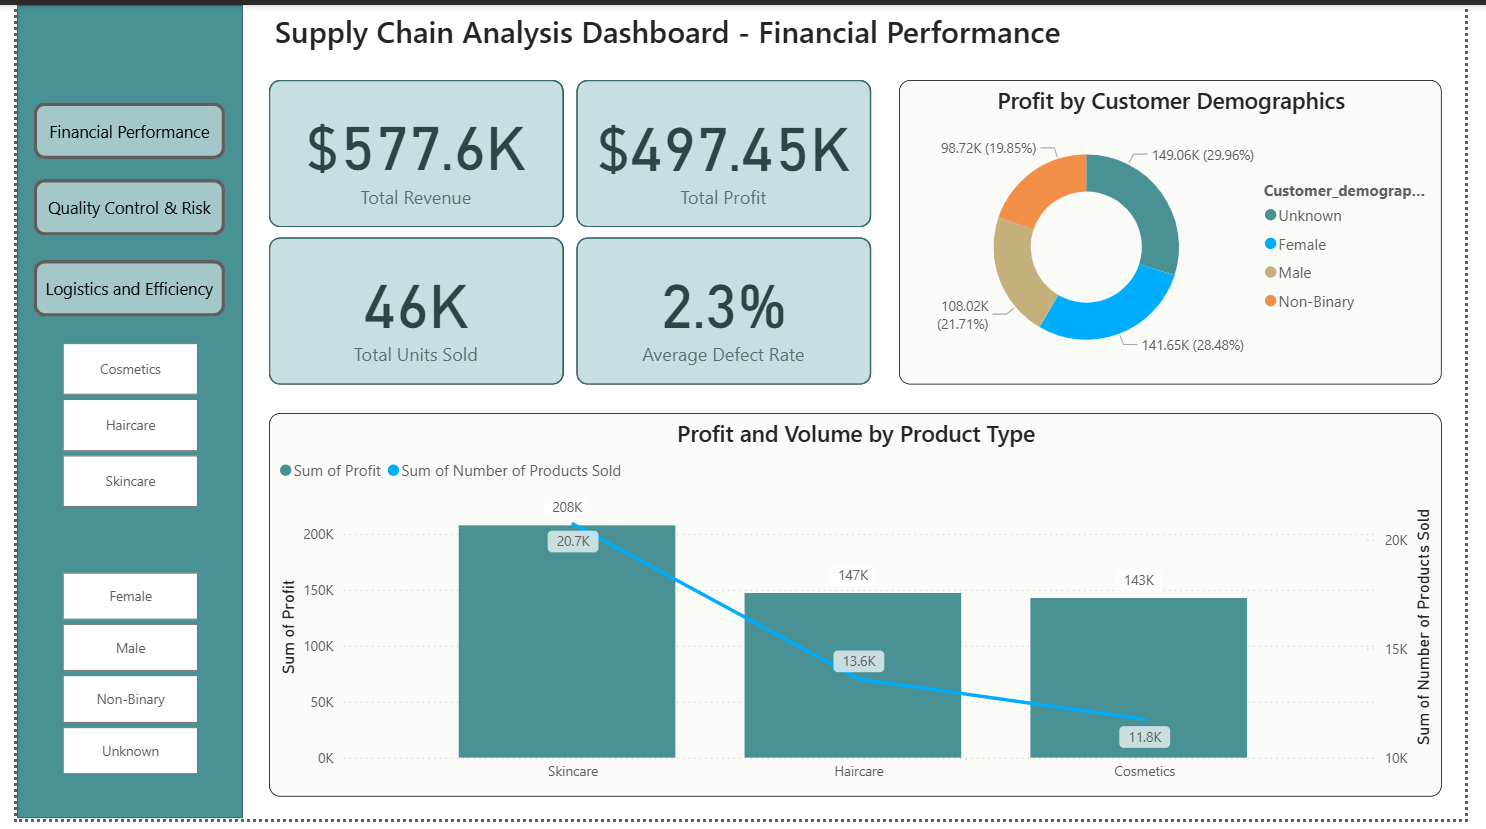

What the dashboard file says about the page in this screenshot:
{"tool":"powerbi","page":{"name":"Financial Performance","canvas":[1280,720],"ordinal":0},"visuals":[{"type":"card","fields":{"Values":["cleaned_supply_chain_data.Total Revenue"]},"box":[222.6,66.6,260.4,130],"z":1000},{"type":"card","fields":{"Values":["cleaned_supply_chain_data.Average Defect Rate"]},"box":[495.1,205.9,260.4,130.2],"z":2000},{"type":"card","fields":{"Values":["cleaned_supply_chain_data.Total Profit"]},"box":[495.1,66.6,260.4,130.2],"z":3000},{"type":"card","fields":{"Values":["cleaned_supply_chain_data.Total Units Sold"]},"box":[222.6,205.9,260.4,130.2],"z":4000},{"type":"shape","box":[0,0,199.9,719.2],"z":5000},{"type":"lineStackedColumnComboChart","title":"Profit and Volume by Product Type","fields":{"Category":["cleaned_supply_chain_data.Product_type"],"Y":["Sum(cleaned_supply_chain_data.Profit)"],"Y2":["Sum(cleaned_supply_chain_data.Number_of_products_sold)"]},"box":[222.6,360.4,1037.2,339.2],"z":6000},{"type":"donutChart","title":"Profit by Customer Demographics","fields":{"Category":["cleaned_supply_chain_data.Customer_demographics"],"Y":["Sum(cleaned_supply_chain_data.Profit)"]},"box":[779.8,66.6,480,269.5],"z":7000},{"type":"textbox","box":[222.6,0,1037.2,50],"z":8000},{"type":"actionButton","box":[15.1,86.3,169.6,50],"z":9000},{"type":"actionButton","box":[15.1,154.4,169.6,50],"z":10000},{"type":"actionButton","box":[15.1,225.6,169.6,50],"z":11000},{"type":"slicer","fields":{"Values":["cleaned_supply_chain_data.Product_type"]},"box":[15.1,292.2,169.6,159],"z":12000},{"type":"slicer","fields":{"Values":["cleaned_supply_chain_data.Customer_demographics"]},"box":[15.1,495.1,169.6,192.3],"z":13000},{"type":"shape","box":[222.6,66.6,260.4,130.2],"z":14000},{"type":"shape","box":[495.1,66.6,260.4,130.2],"z":15000},{"type":"shape","box":[222.6,205.9,260.4,130.2],"z":16000},{"type":"shape","box":[495.1,205.9,260.4,130.2],"z":16500}]}

Visuals, with their boxes in screenshot pixels (x1, y1, x2, y2), scaled from the page's 1280x720 canvas onto the 1486x829 screenshot:
card - cleaned_supply_chain_data.Total Revenue: 258 77 561 226
card - cleaned_supply_chain_data.Average Defect Rate: 575 237 877 387
card - cleaned_supply_chain_data.Total Profit: 575 77 877 227
card - cleaned_supply_chain_data.Total Units Sold: 258 237 561 387
shape: 0 0 232 828
"Profit and Volume by Product Type" lineStackedColumnComboChart: 258 415 1463 806
"Profit by Customer Demographics" donutChart: 905 77 1463 387
textbox: 258 0 1463 58
actionButton: 18 99 214 157
actionButton: 18 178 214 235
actionButton: 18 260 214 317
slicer - cleaned_supply_chain_data.Product_type: 18 336 214 520
slicer - cleaned_supply_chain_data.Customer_demographics: 18 570 214 791
shape: 258 77 561 227
shape: 575 77 877 227
shape: 258 237 561 387
shape: 575 237 877 387
